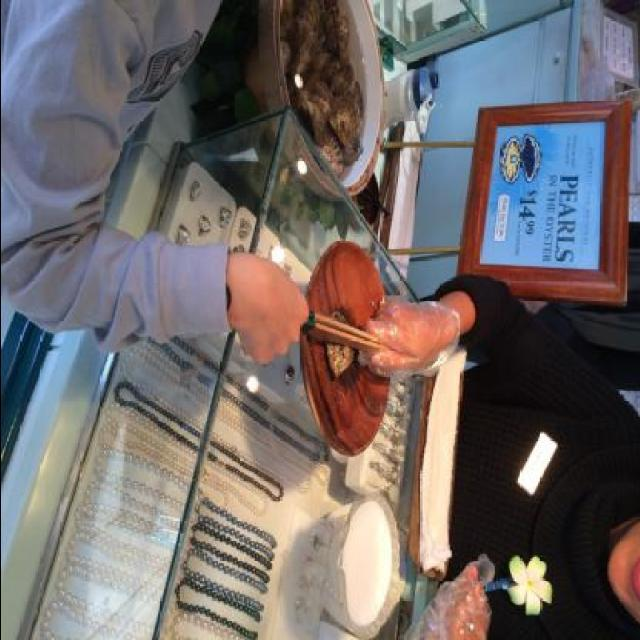Milk: (342, 496, 398, 632)
